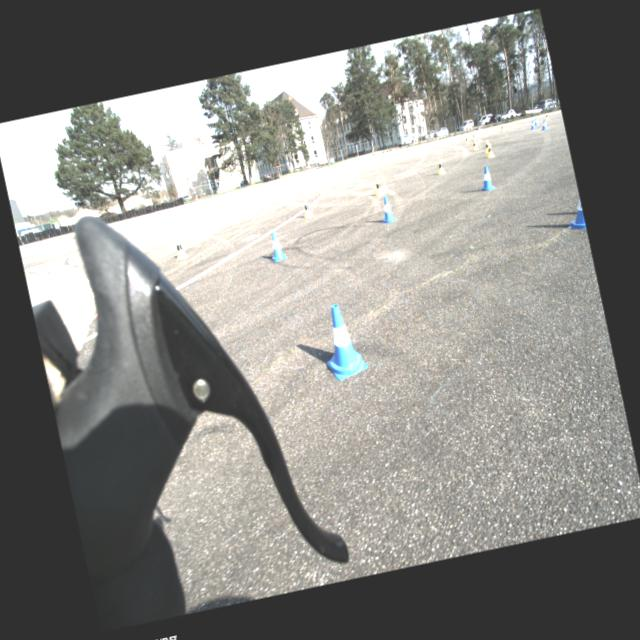blue_cone: (315, 299, 369, 382), (561, 197, 586, 232), (265, 230, 288, 262), (376, 194, 397, 224), (474, 165, 496, 192), (540, 118, 548, 130), (528, 120, 536, 130), (533, 117, 538, 125)
yellow_cone: (172, 235, 189, 260), (300, 198, 314, 218), (484, 142, 496, 158), (372, 178, 383, 195), (435, 158, 446, 174), (482, 140, 490, 152), (471, 140, 478, 150), (471, 137, 478, 146), (463, 136, 469, 144), (471, 132, 476, 140), (544, 112, 549, 120), (500, 124, 504, 130)
